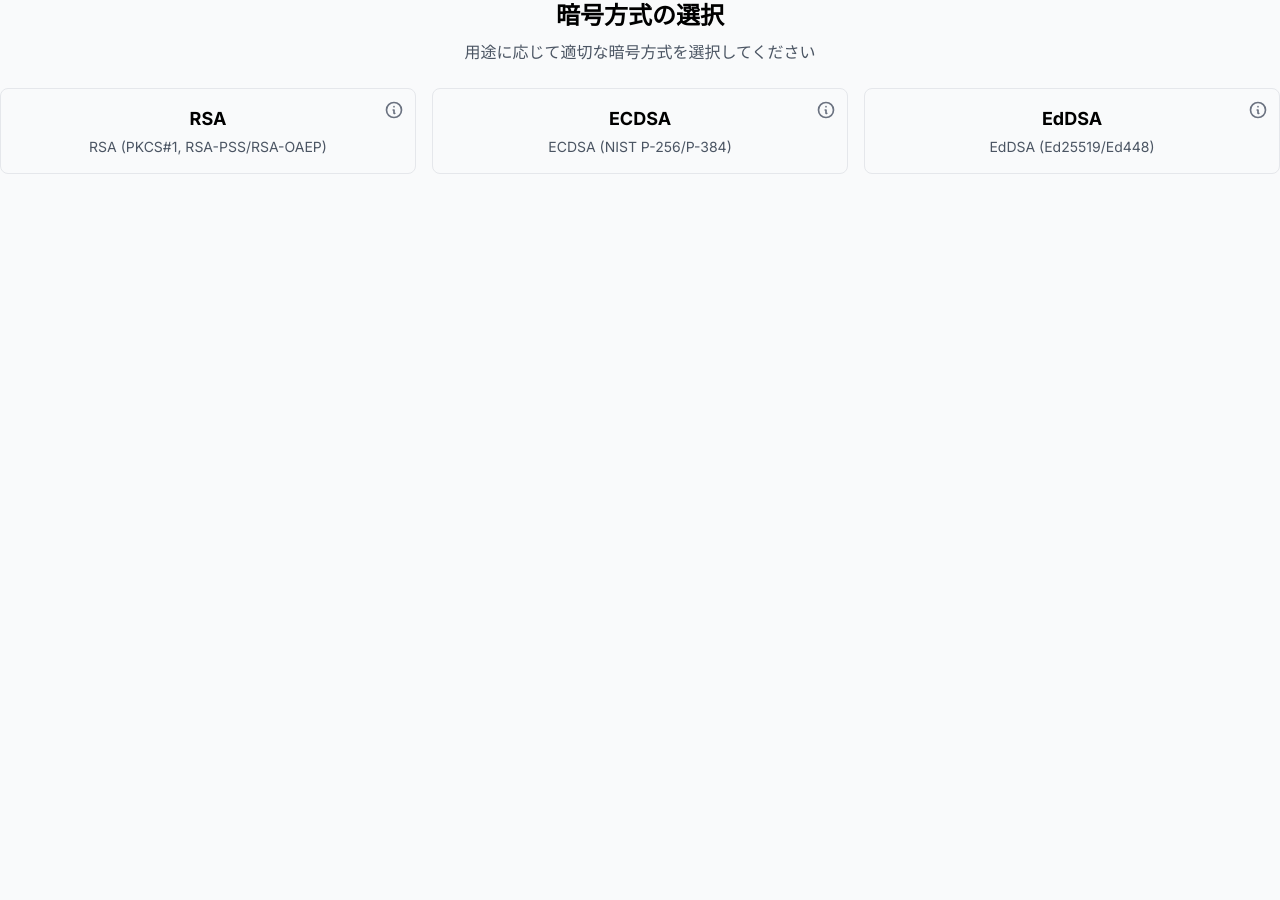
Step1コンポーネントテスト › 詳細情報の表示
// RSAの詳細情報を表示
Click the button named "詳細". click: (394, 110)
box: 380,96 -> 408,124
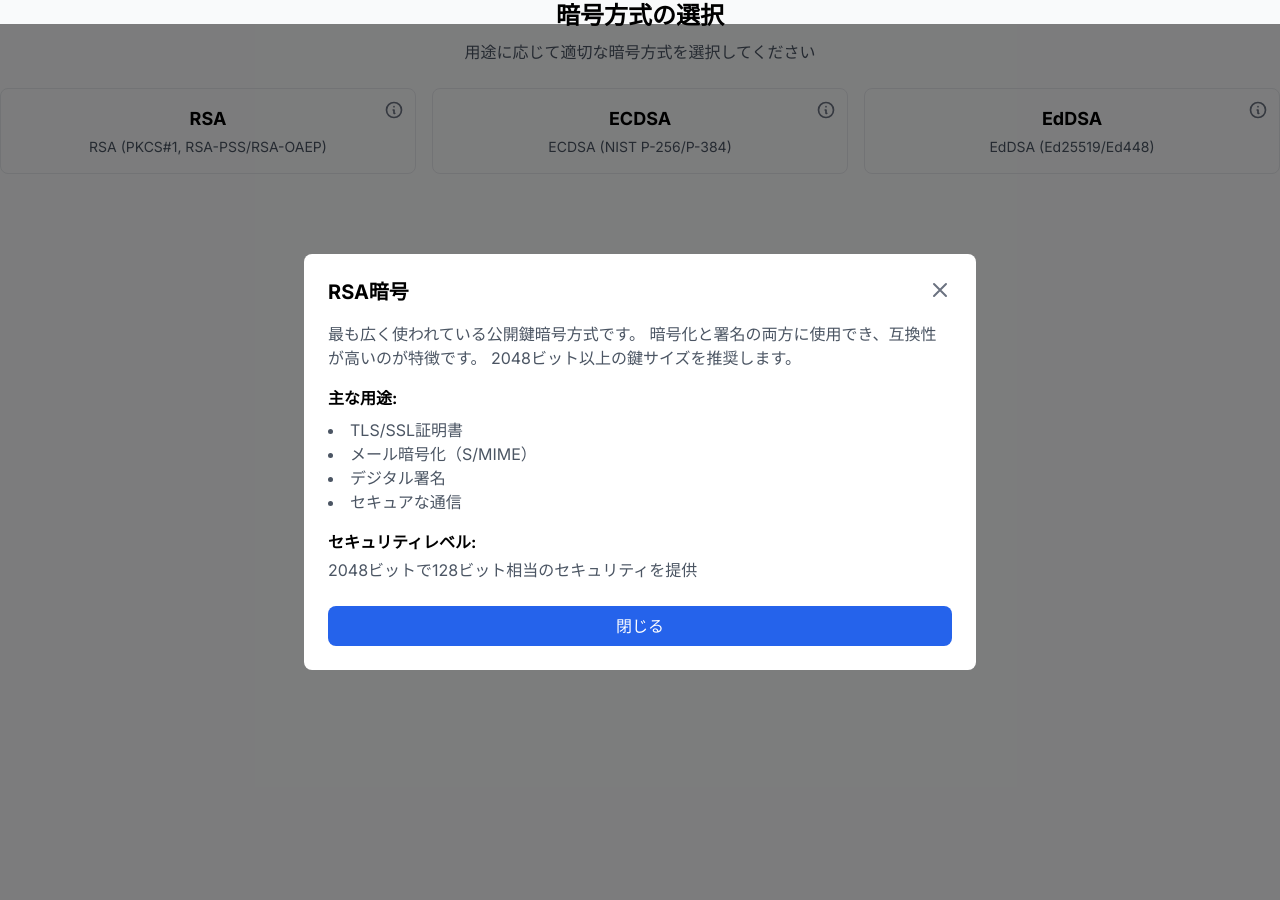
expect the heading "RSA暗号" is shown: met, box 328,278 -> 409,306
expect the text "最も広く使われている公開鍵暗号方式です" is shown: met, box 328,324 -> 936,368
// モーダルを閉じる
Click the button "閉じる". click: (640, 626)
box: 328,606 -> 952,646
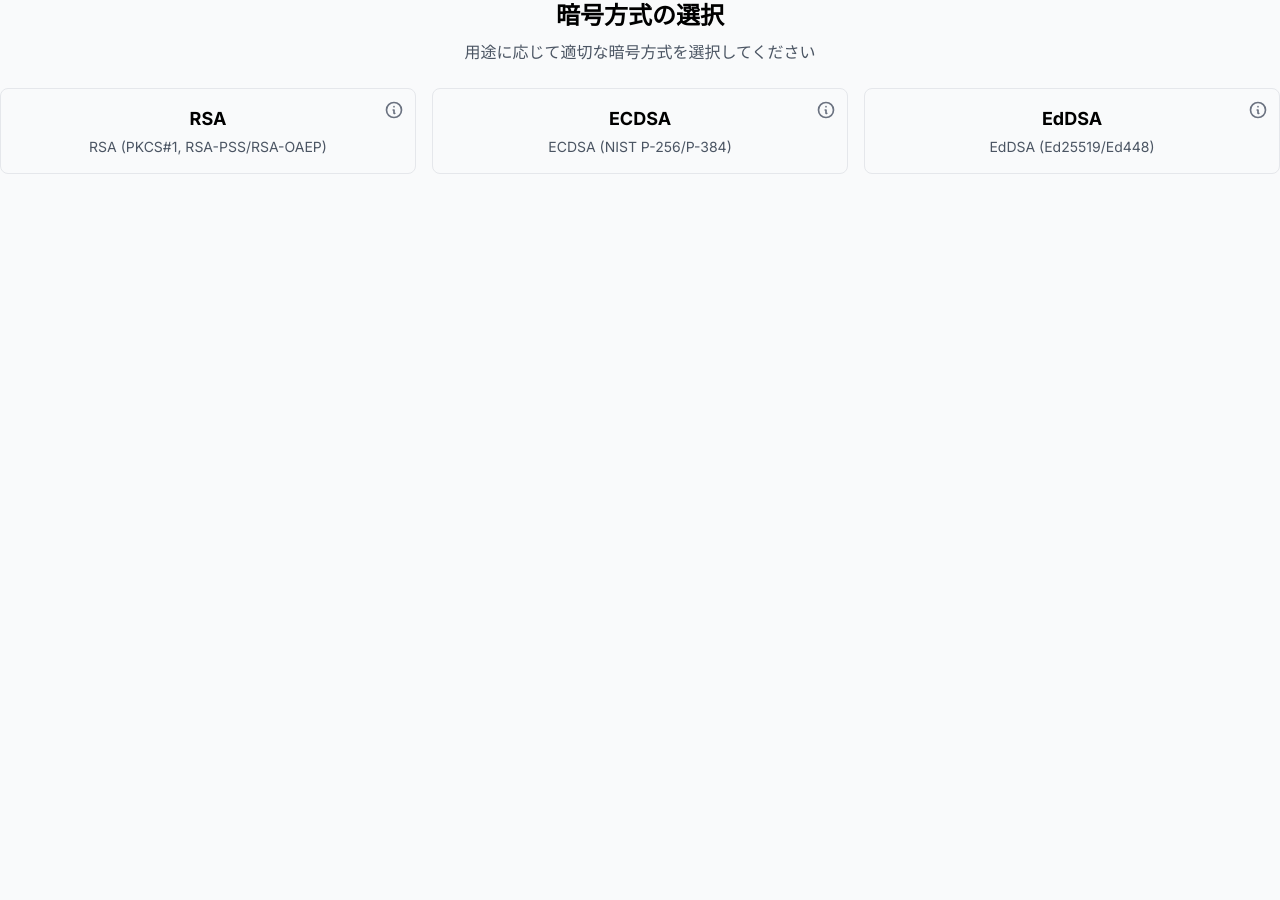
expect the heading "RSA暗号" is gone: met
